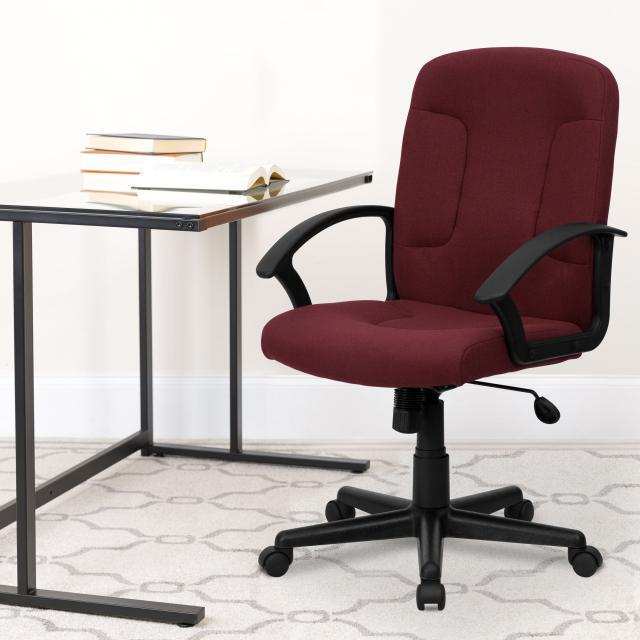chair: (217, 33, 640, 624)
table: (0, 161, 367, 631)
